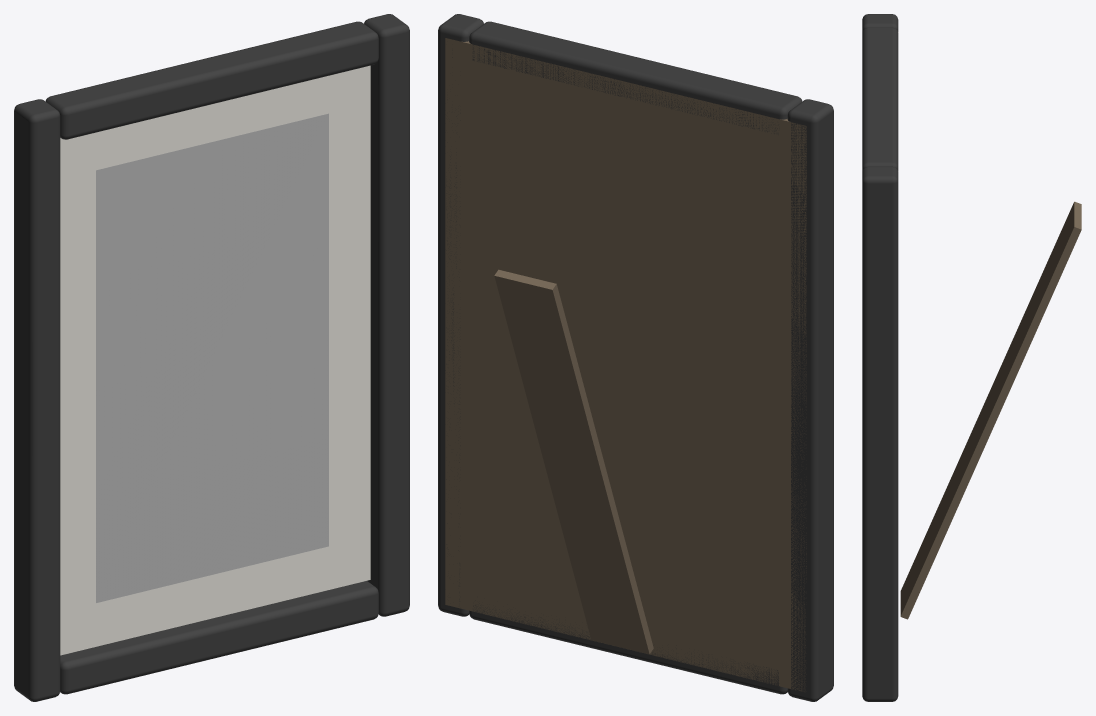
The model's file is frame_portrait.glb.
3 renders of one model, left to right at view 1: azimuth 30°, elevation 25°; view 2: azimuth 150°, elevation 25°; view 3: azimuth 270°, elevation 25°, orthographic. The views are drawn at different scales.
Visible parts, largest first — view 1: Photo, MountBoard, Side-1, Side1, Rail1, Rail-1; view 2: Backing, Side-1, Strut, Rail1, Side1, Rail-1; view 3: Side1, Strut, Rail1, Side-1.
Boxes of the visible parts, x1,y1,x2,y2 form: Photo: (96, 113, 328, 602); MountBoard: (60, 65, 370, 655); Side-1: (14, 99, 60, 701); Side1: (364, 14, 409, 616); Rail1: (45, 21, 378, 139); Rail-1: (60, 581, 378, 694); Backing: (445, 38, 806, 691); Side-1: (787, 99, 833, 701); Strut: (494, 269, 653, 654); Rail1: (469, 21, 802, 134); Side1: (438, 14, 483, 616); Rail-1: (469, 600, 787, 694); Side1: (862, 166, 898, 701); Strut: (900, 201, 1081, 619); Rail1: (862, 27, 898, 171); Side-1: (862, 14, 898, 32).
Size of the model in its own units: 0.196 by 0.289 by 0.1094.
